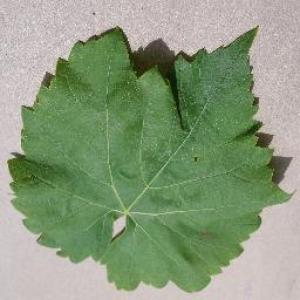Folha: (6, 25, 297, 292)
